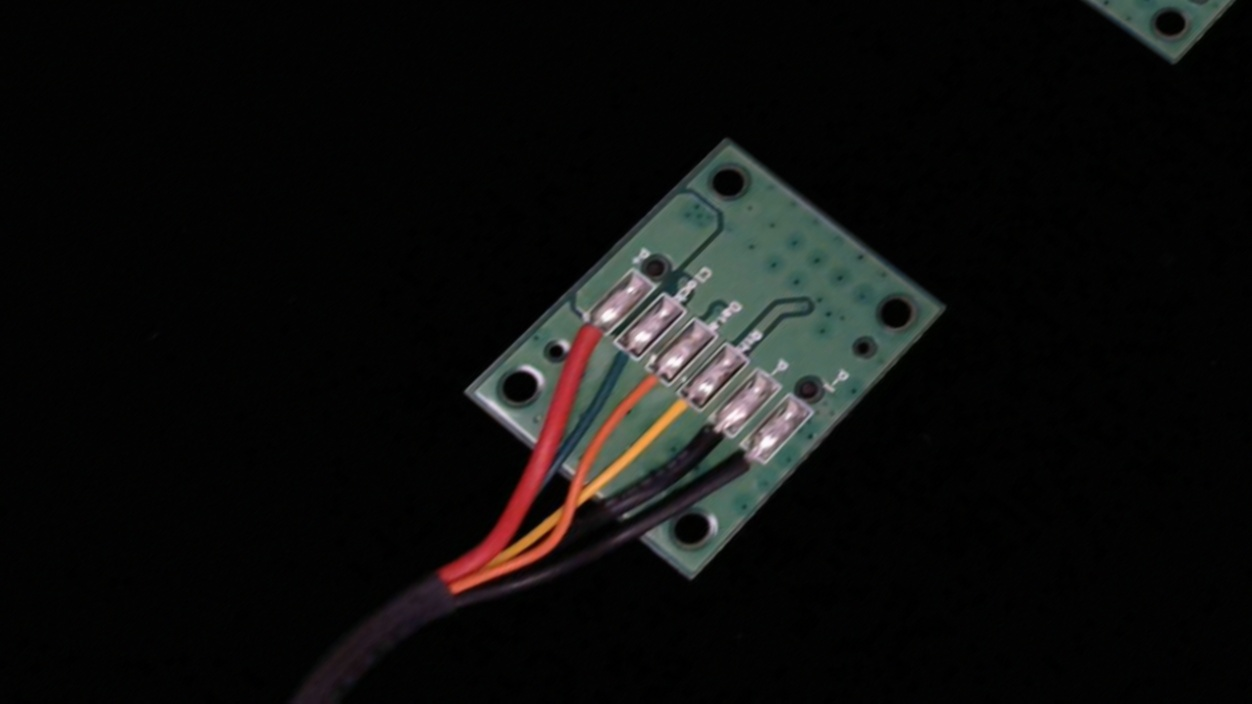Black: (659, 402, 750, 487)
Black1: (701, 434, 783, 512)
Green: (577, 329, 653, 398)
Orange: (598, 353, 687, 434)
Red: (540, 304, 624, 379)
Yellow: (624, 376, 716, 461)
